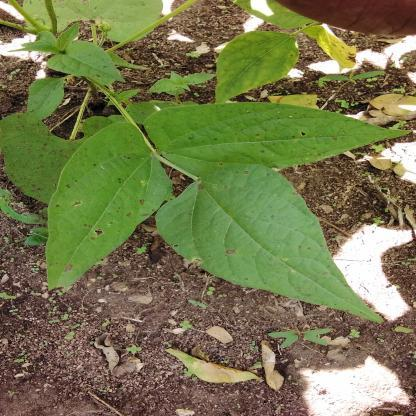Beans_Angular_LeafSpot: (184, 174, 358, 322), (48, 117, 158, 296), (156, 108, 372, 171)
